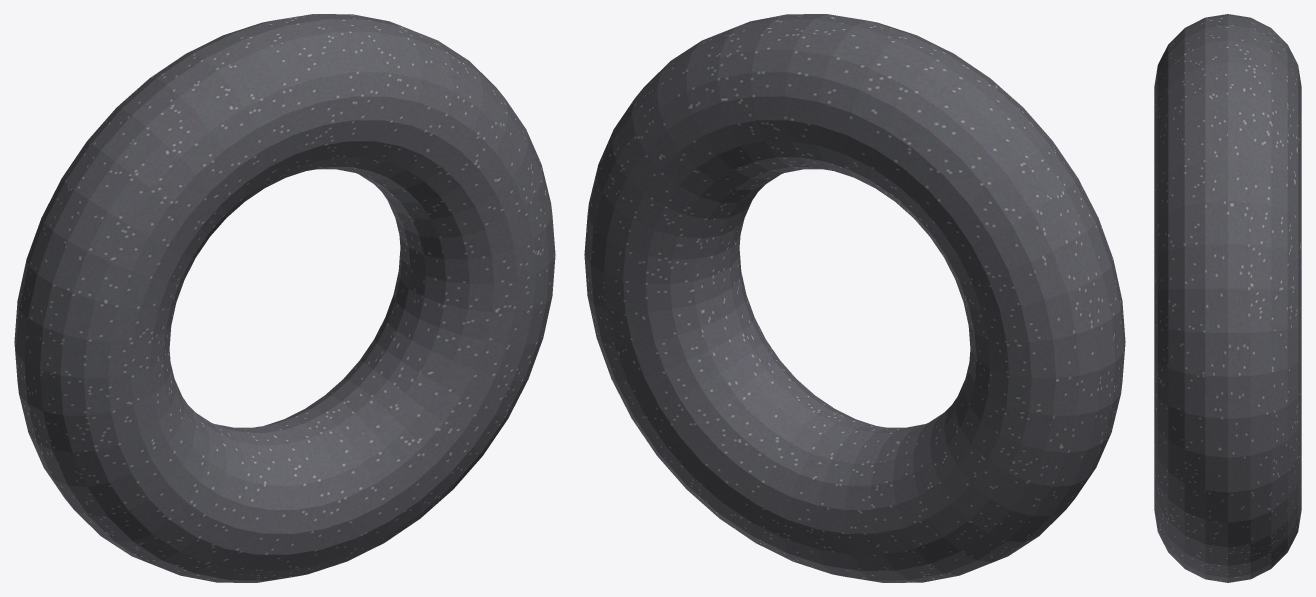
3 renders of one model, left to right at view 1: azimuth 30°, elevation 25°; view 2: azimuth 150°, elevation 25°; view 3: azimuth 270°, elevation 25°, orthographic. The views are drawn at different scales.
Visible parts, largest first — view 1: world; view 2: world; view 3: world.
Boxes of the visible parts, x1=… form: world: x1=14, y1=14, x2=555, y2=582; world: x1=584, y1=14, x2=1125, y2=582; world: x1=1154, y1=14, x2=1301, y2=582.
Size of the model in its own units: 2.7 by 2.7 by 0.7.
Materials: 1 (1 with a texture image).
